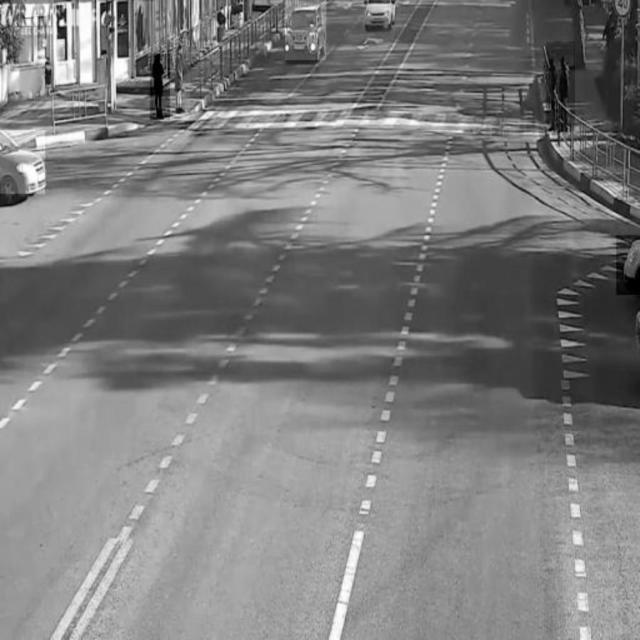person: (546, 42, 574, 133), (170, 39, 190, 120), (150, 54, 170, 120)
vehicle: (1, 130, 46, 194), (286, 0, 327, 60), (616, 235, 640, 295), (363, 1, 395, 33)
